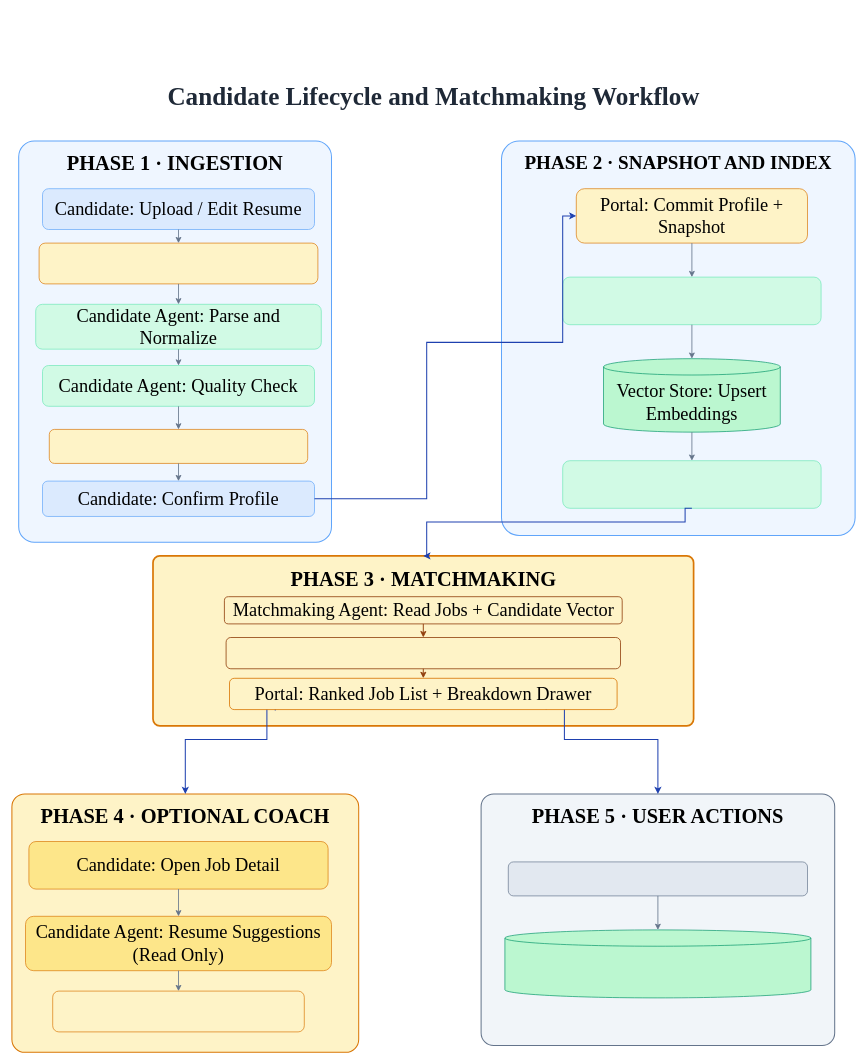
Some shapes in this 868 by 1064 pixel diagram are drawn without their labels. The shapes that lost their labels are listed below. From the top down, each one's centre as x and y in pixels, then its label:
At pixel 178 263: "Portal: Forward Raw Document".
At pixel 691 300: "Candidate Agent: Ownership Link + Validate".
At pixel 178 446: "Portal: Show Extracted Fields".
At pixel 691 484: "Candidate Agent: Snapshot / Invalidation Event".
At pixel 423 653: "Matchmaking Agent: Score • Rank • Explain".
At pixel 658 878: "Candidate: Save / Apply / Dismiss".
At pixel 657 963: "Feedback Store: Record Feedback Action".
At pixel 178 1011: "Portal: Improvement Tips".
